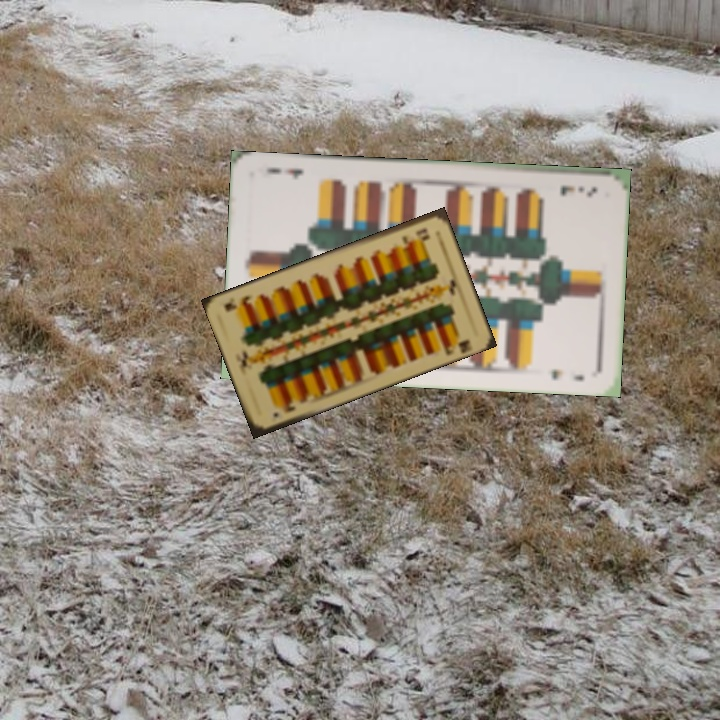E10: (398, 224, 431, 246), (269, 397, 298, 420)
E7: (555, 181, 600, 199)
